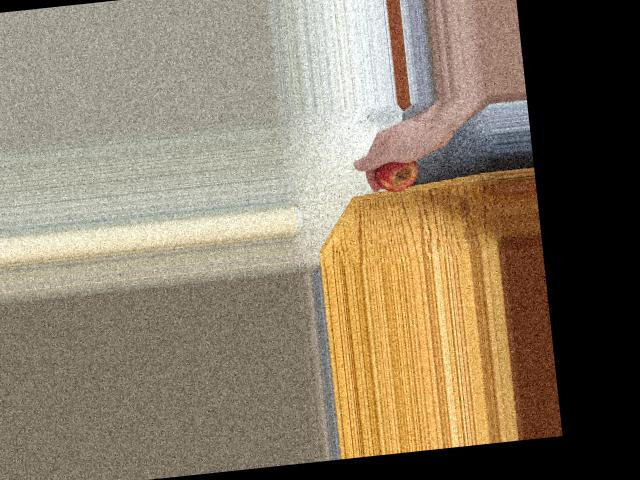apple: (370, 142, 425, 195)
